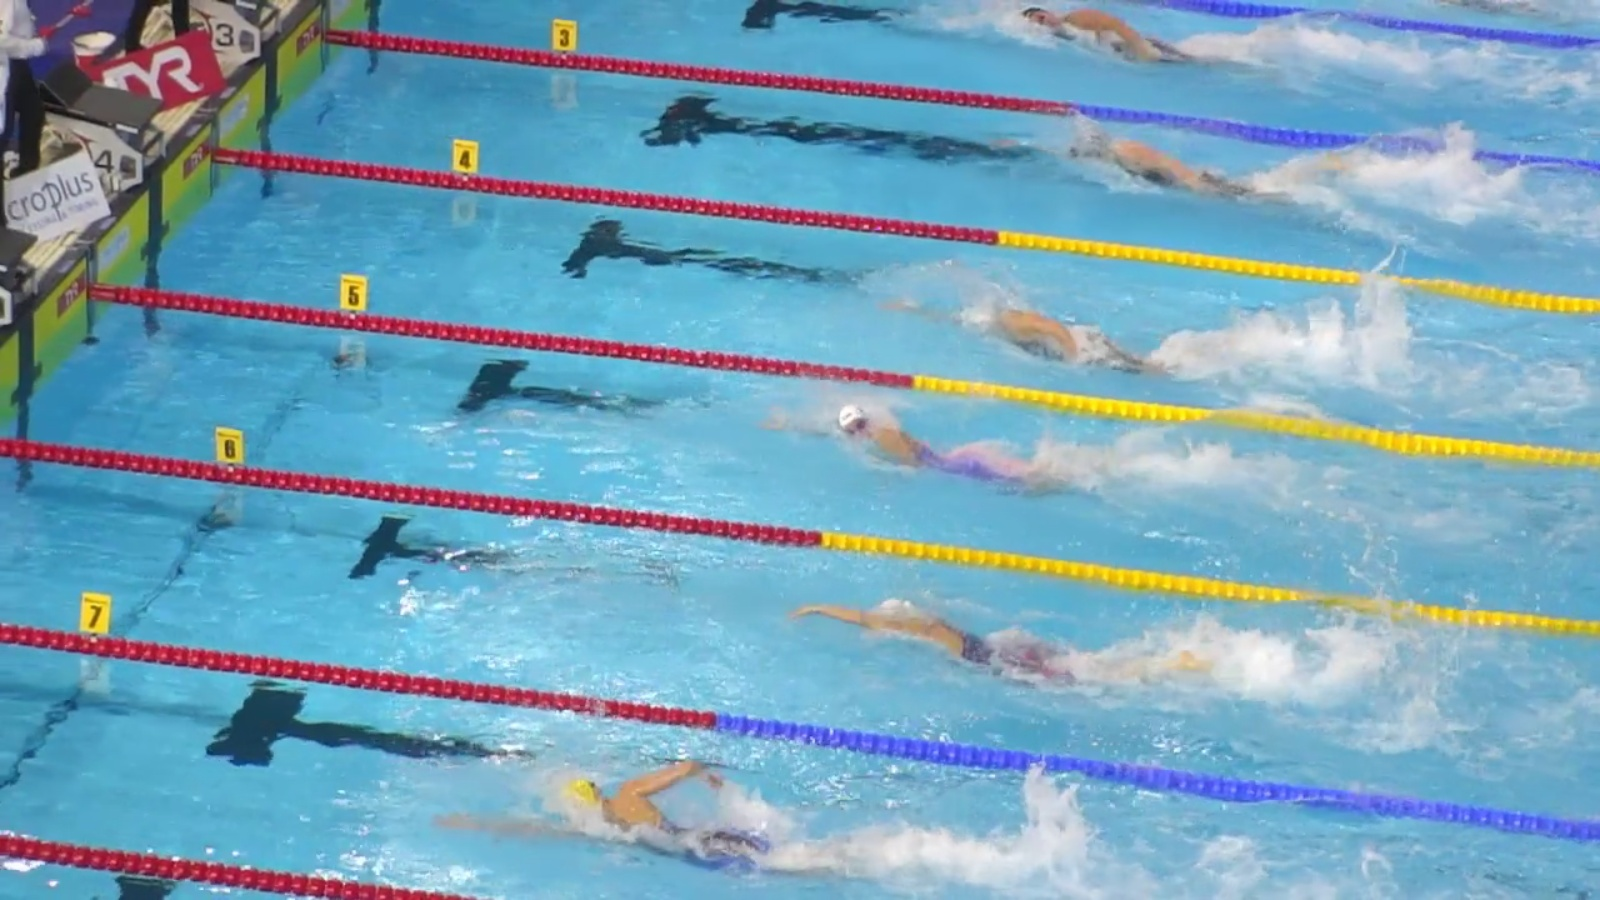swimmerw: (438, 757, 915, 881), (790, 599, 1211, 689), (879, 291, 1205, 391), (762, 404, 1114, 495), (986, 136, 1334, 209), (1009, 1, 1245, 65)
